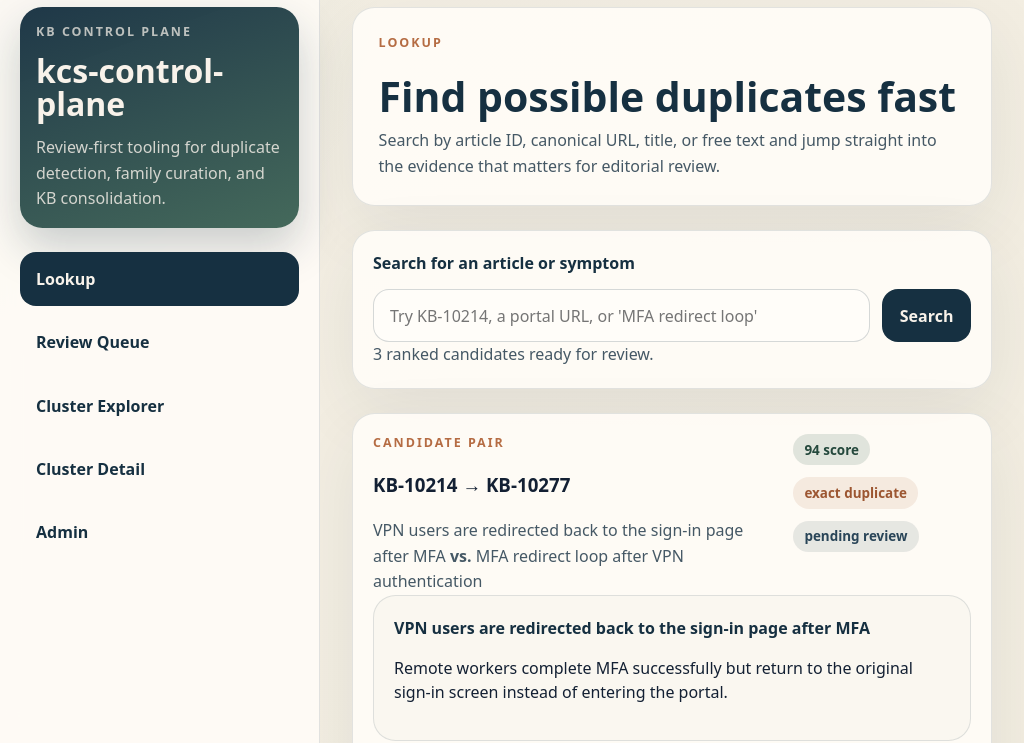
it: workflow-first frontend › keeps the main pages semantically accessible
The image size is (1024, 743).
Expected: the navigation bar named "Workflow pages" is shown, 20,252 -> 299,559
Expected: the search field labelled "Search for an article or symptom" is shown, 373,289 -> 870,342
Click the button "Review Queue": (93,342) 20,315 -> 299,370
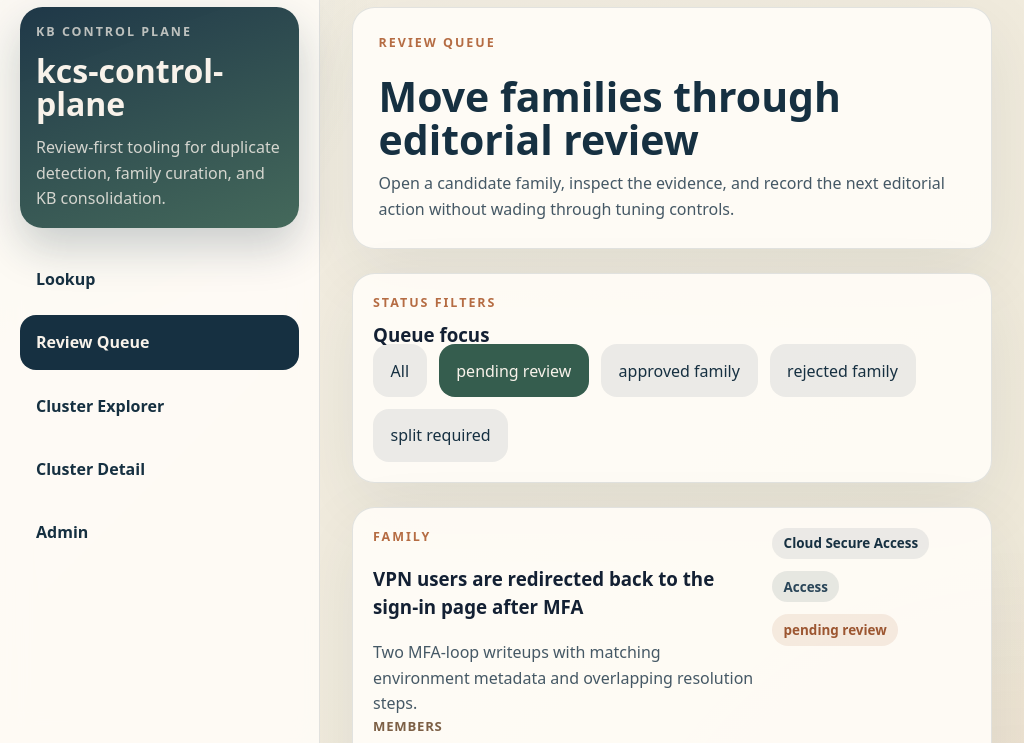
Result: the element named "Queue status filters" is shown at 373,344 -> 971,462
Click the button "Cluster Explorer": (160,406) 20,378 -> 299,433
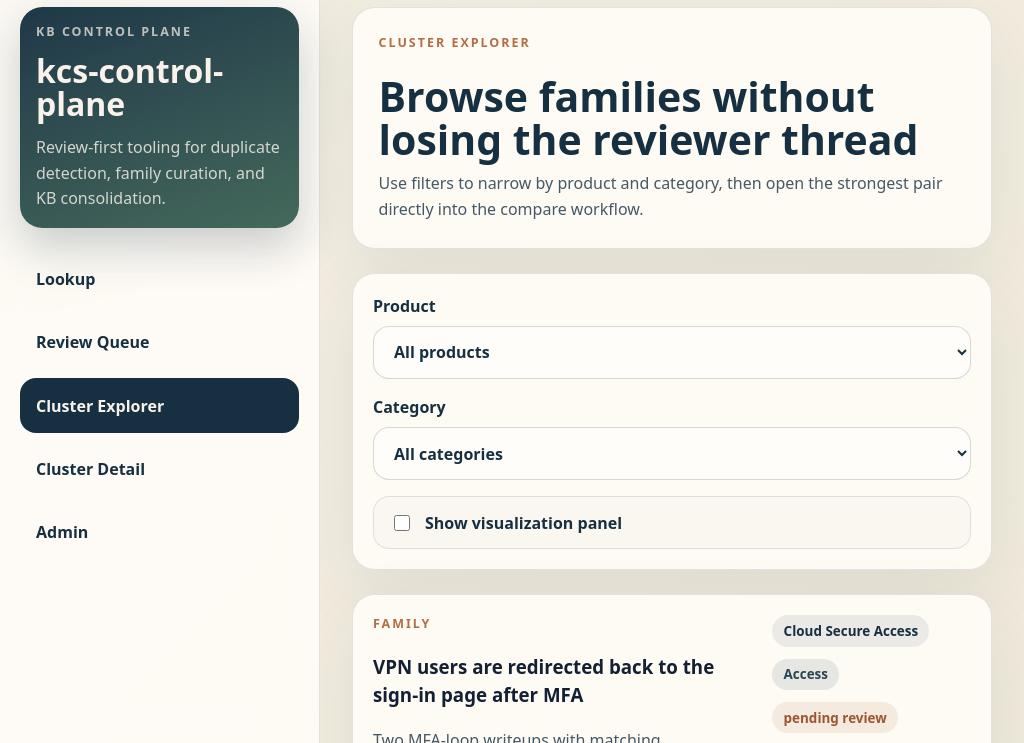
Result: the checkbox labelled "Show visualization panel" is shown at 394,515 -> 410,531
Click the button "Admin": (62,532) 20,505 -> 299,559
(page scrolled)
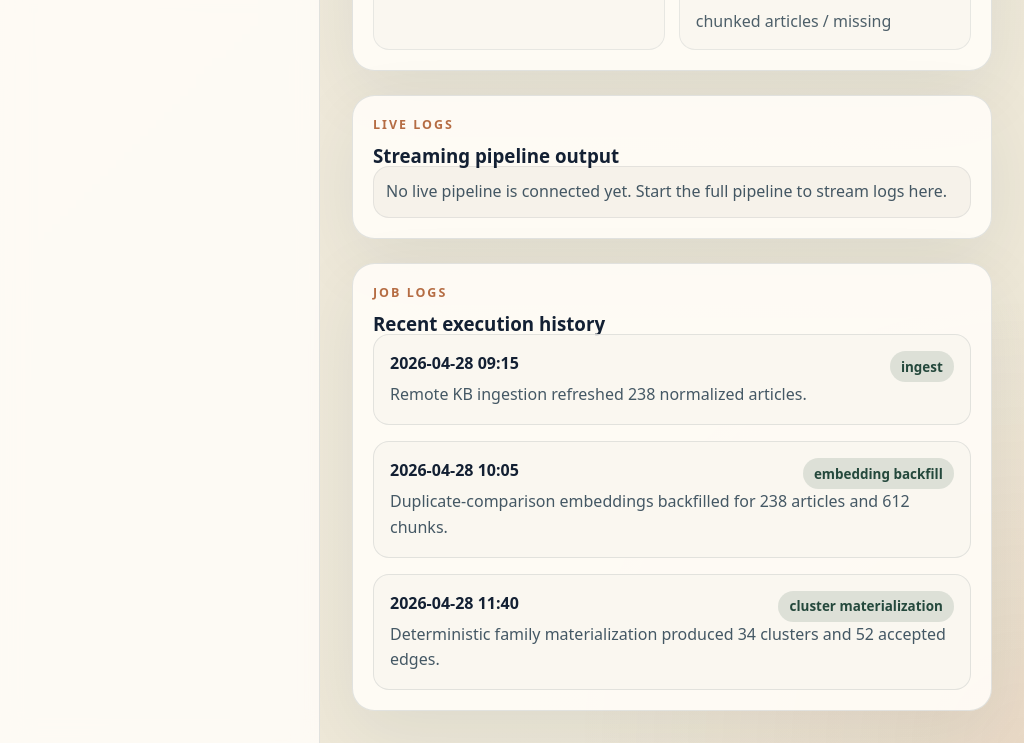
Result: the element labelled "Job logs" is shown at 352,263 -> 992,711
